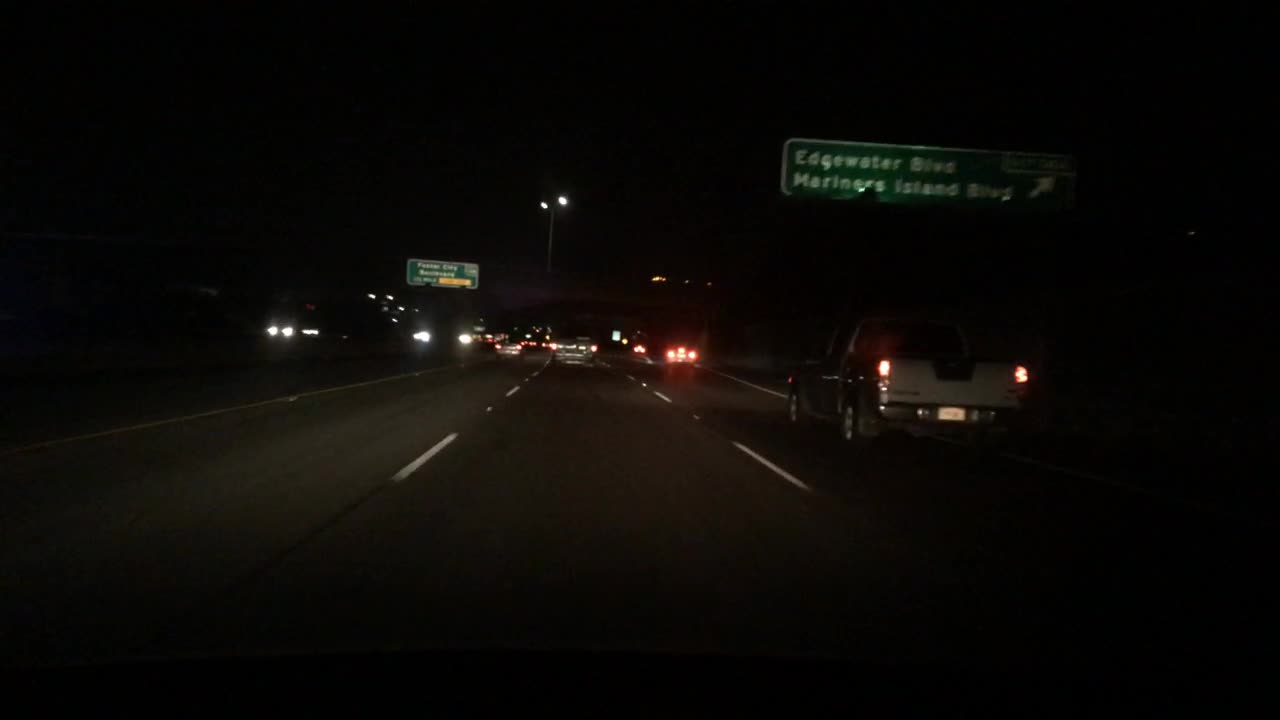car: (784, 296, 1041, 459), (552, 332, 598, 370), (408, 326, 472, 352), (266, 317, 323, 340), (660, 333, 699, 366), (491, 337, 525, 362), (512, 332, 538, 348), (630, 336, 648, 354), (537, 334, 553, 350), (481, 330, 498, 345)
traffic sign: (779, 136, 1079, 214), (404, 256, 480, 289), (610, 330, 621, 340), (621, 336, 629, 345)
